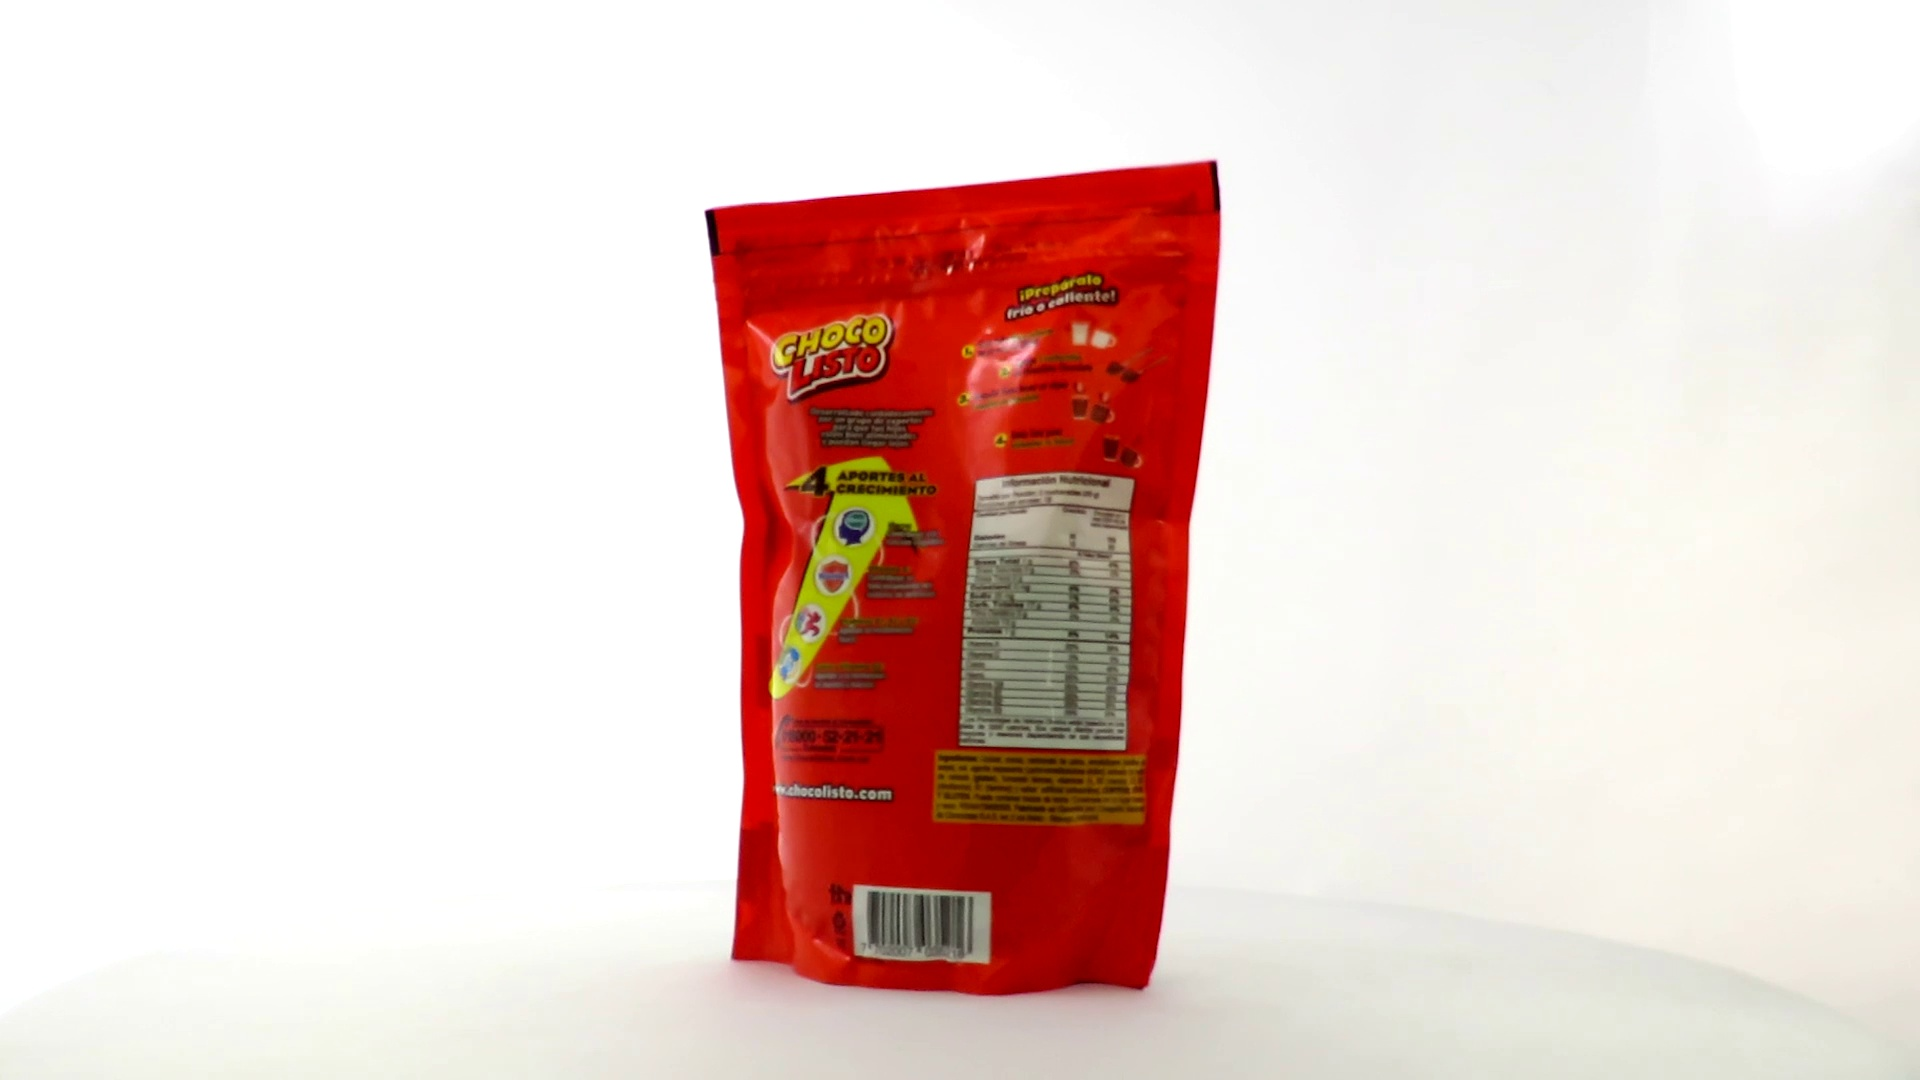COL0170103DYP36000: (700, 156, 1226, 1004)
